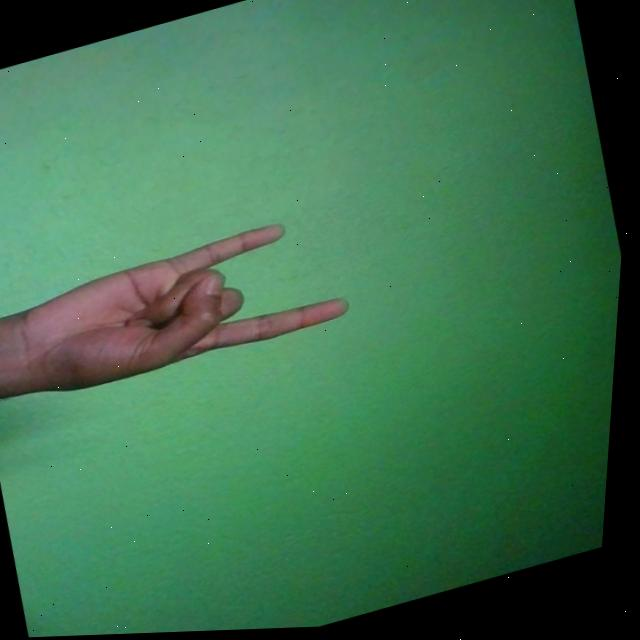Rock On: (0, 207, 361, 410)
